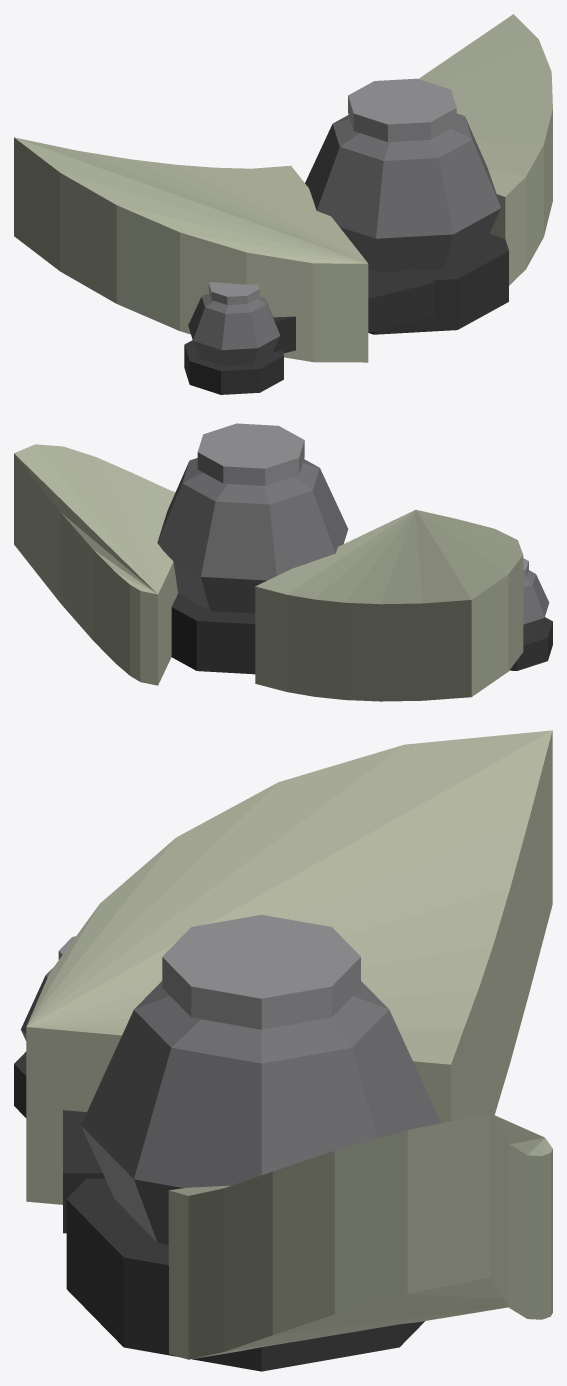
The model's file is exostrider_leg_a.obj.
3 renders of one model, top to bottom at view 1: azimuth 30°, elevation 25°; view 2: azimuth 150°, elevation 25°; view 3: azimuth 270°, elevation 25°, orthographic. The views are drawn at different scales.
Parts seen in each view (by area): view 1: exostrider_leg_a_0, exostrider_leg_a_2, exostrider_leg_a_8, exostrider_leg_a_1, exostrider_leg_a_3, exostrider_leg_a_5, exostrider_leg_a_7, exostrider_leg_a_4, exostrider_leg_a_6; view 2: exostrider_leg_a_0, exostrider_leg_a_8, exostrider_leg_a_2, exostrider_leg_a_3, exostrider_leg_a_1, exostrider_leg_a_5, exostrider_leg_a_4; view 3: exostrider_leg_a_0, exostrider_leg_a_8, exostrider_leg_a_2, exostrider_leg_a_3, exostrider_leg_a_1, exostrider_leg_a_7.
Boxes of the visible parts, bbox=[...] form: exostrider_leg_a_0: bbox=[14, 137, 368, 362]; exostrider_leg_a_2: bbox=[305, 113, 500, 272]; exostrider_leg_a_8: bbox=[419, 14, 552, 285]; exostrider_leg_a_1: bbox=[368, 233, 508, 334]; exostrider_leg_a_3: bbox=[348, 78, 456, 141]; exostrider_leg_a_5: bbox=[188, 293, 280, 365]; exostrider_leg_a_7: bbox=[273, 268, 434, 353]; exostrider_leg_a_4: bbox=[184, 340, 283, 394]; exostrider_leg_a_6: bbox=[209, 282, 259, 304]; exostrider_leg_a_0: bbox=[255, 509, 523, 701]; exostrider_leg_a_8: bbox=[14, 444, 177, 685]; exostrider_leg_a_2: bbox=[157, 458, 348, 613]; exostrider_leg_a_3: bbox=[197, 423, 304, 485]; exostrider_leg_a_1: bbox=[171, 593, 255, 674]; exostrider_leg_a_5: bbox=[523, 570, 549, 639]; exostrider_leg_a_4: bbox=[509, 617, 552, 670]; exostrider_leg_a_0: bbox=[26, 730, 552, 1204]; exostrider_leg_a_8: bbox=[168, 1113, 552, 1359]; exostrider_leg_a_2: bbox=[81, 981, 440, 1244]; exostrider_leg_a_3: bbox=[162, 914, 360, 1029]; exostrider_leg_a_1: bbox=[66, 1178, 424, 1371]; exostrider_leg_a_7: bbox=[63, 1110, 104, 1233].
Size of the model in its own units: 1.64 by 0.609 by 0.895.
